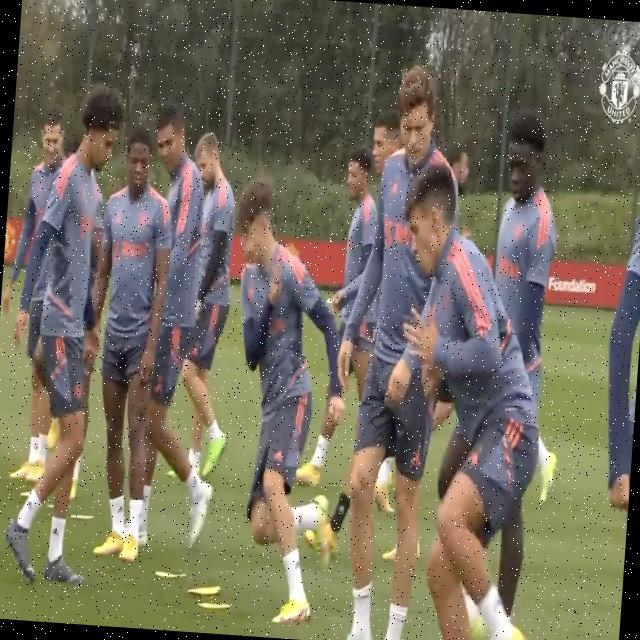Adidas: (410, 450, 422, 469), (272, 446, 284, 465)
